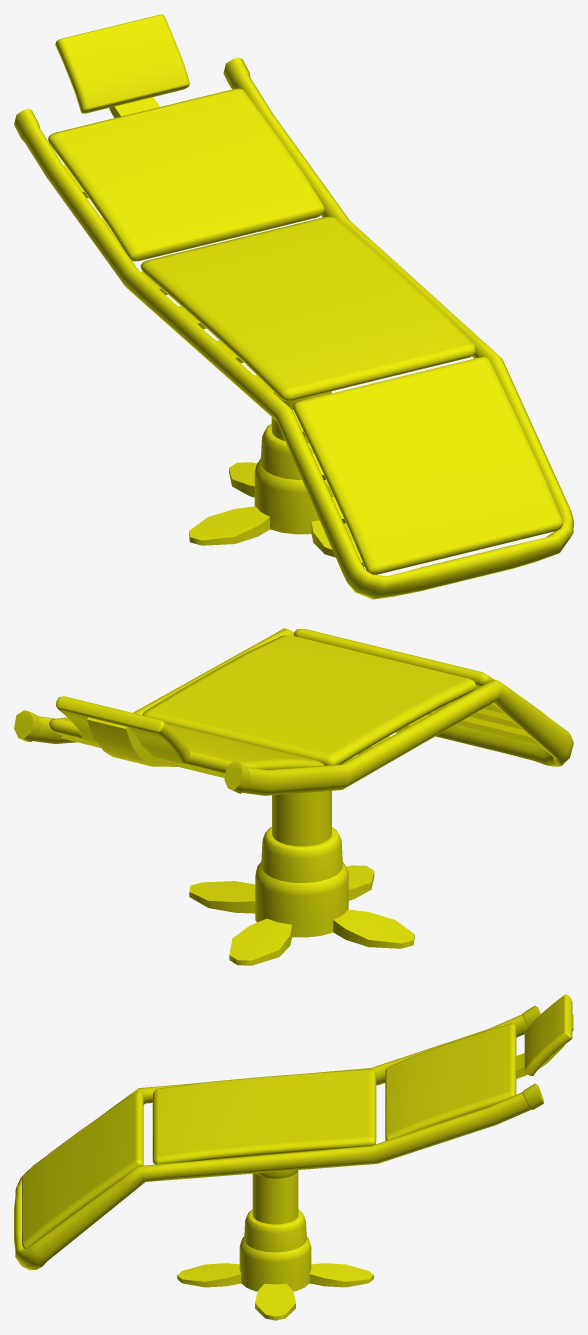
Rendered from PatinetChair.fbx.
3 renders of one model, top to bottom at view 1: azimuth 30°, elevation 25°; view 2: azimuth 150°, elevation 25°; view 3: azimuth 270°, elevation 25°, orthographic. The views are drawn at different scales.
Visible parts, largest first — view 1: PateintChair1; view 2: PateintChair1; view 3: PateintChair1.
Boxes of the visible parts, x1=… form: PateintChair1: x1=14, y1=14, x2=573, y2=599; PateintChair1: x1=14, y1=628, x2=573, y2=965; PateintChair1: x1=14, y1=994, x2=573, y2=1320.
Bounding box in the file's own units: 0.8536 × 1.26 × 2.4.
